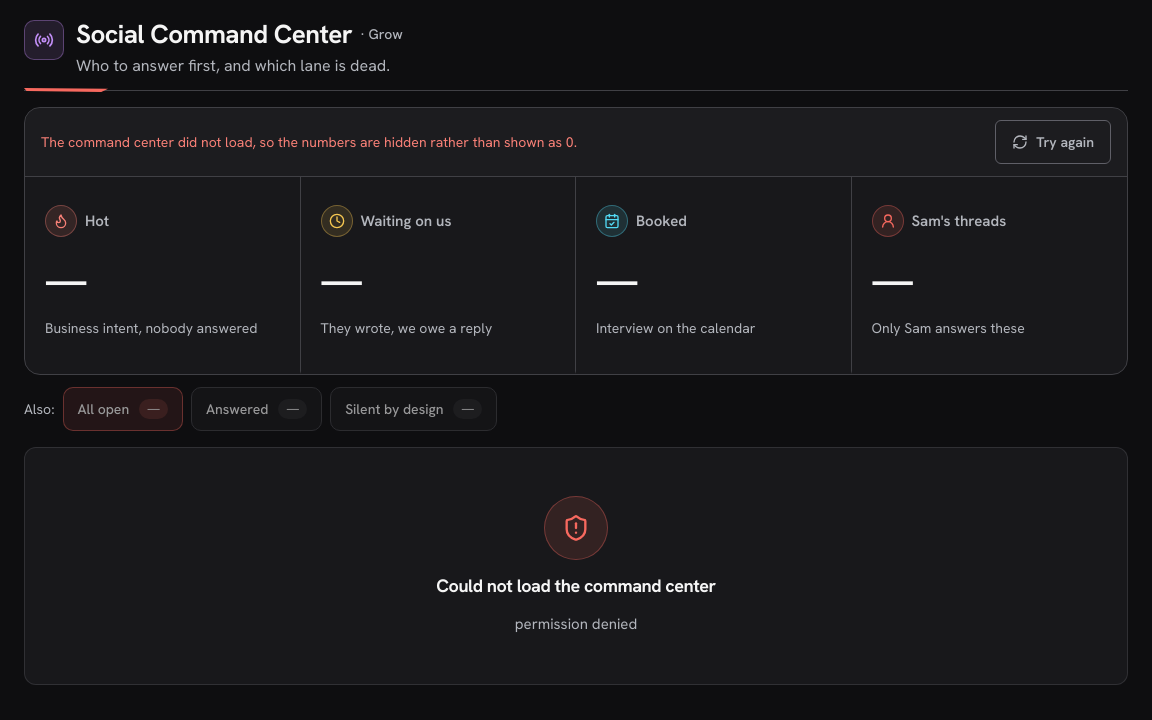
Test case: Social Command Center › shows dashes, the reason and Try again when the read fails, then recovers
Expected: the heading "Could not load the command center" is shown, [436,572,716,600]
Expected: the text "permission denied" is shown, [515,612,637,636]
Click the button "Try again": click(1053, 142) [995,120,1111,164]
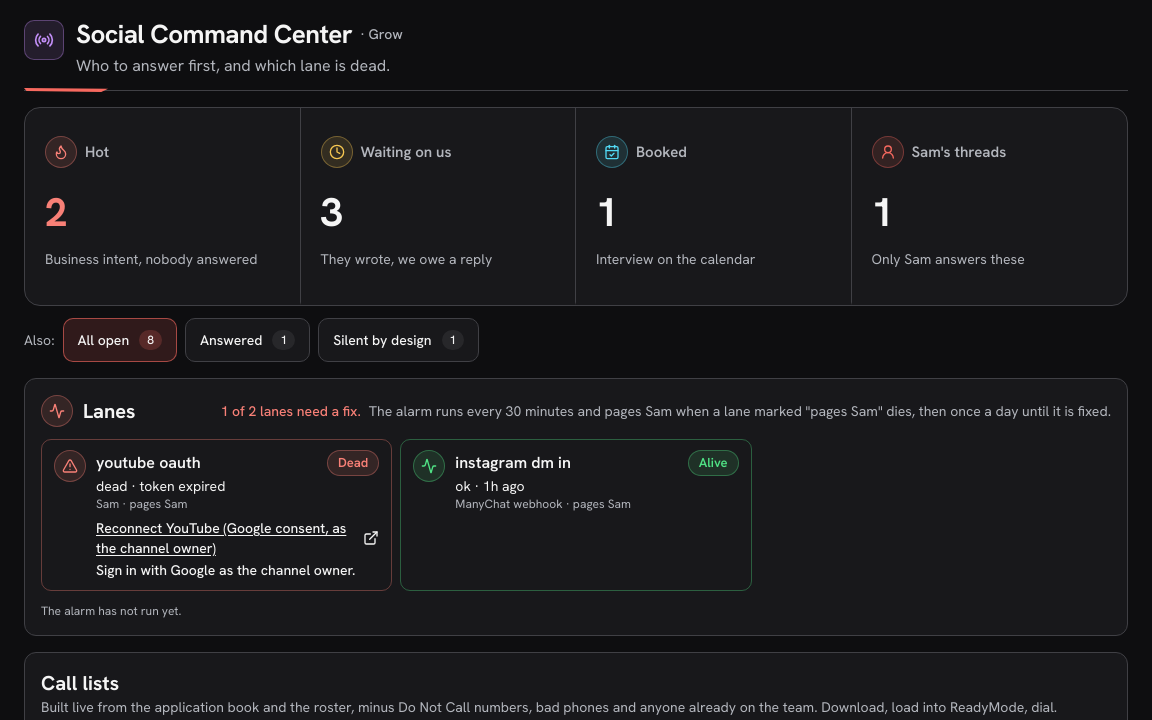
Result: the text "numbers are hidden" is gone
